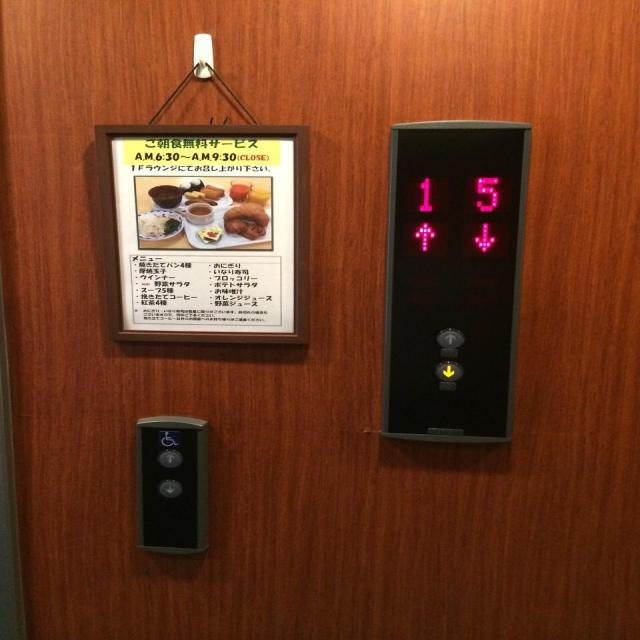CH: (157, 429, 180, 447)
down: (432, 359, 462, 382), (156, 478, 183, 499)
led: (406, 172, 510, 254)
up: (436, 326, 466, 348), (156, 448, 183, 468)
